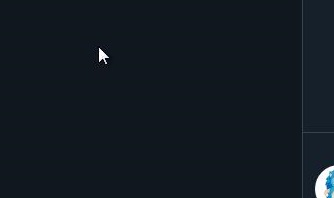cursor: (97, 45, 109, 66)
